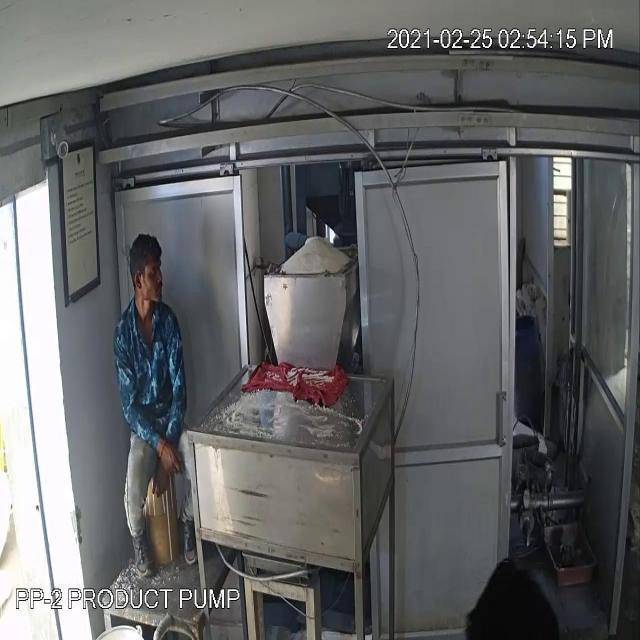no hat: (120, 215, 171, 290)
